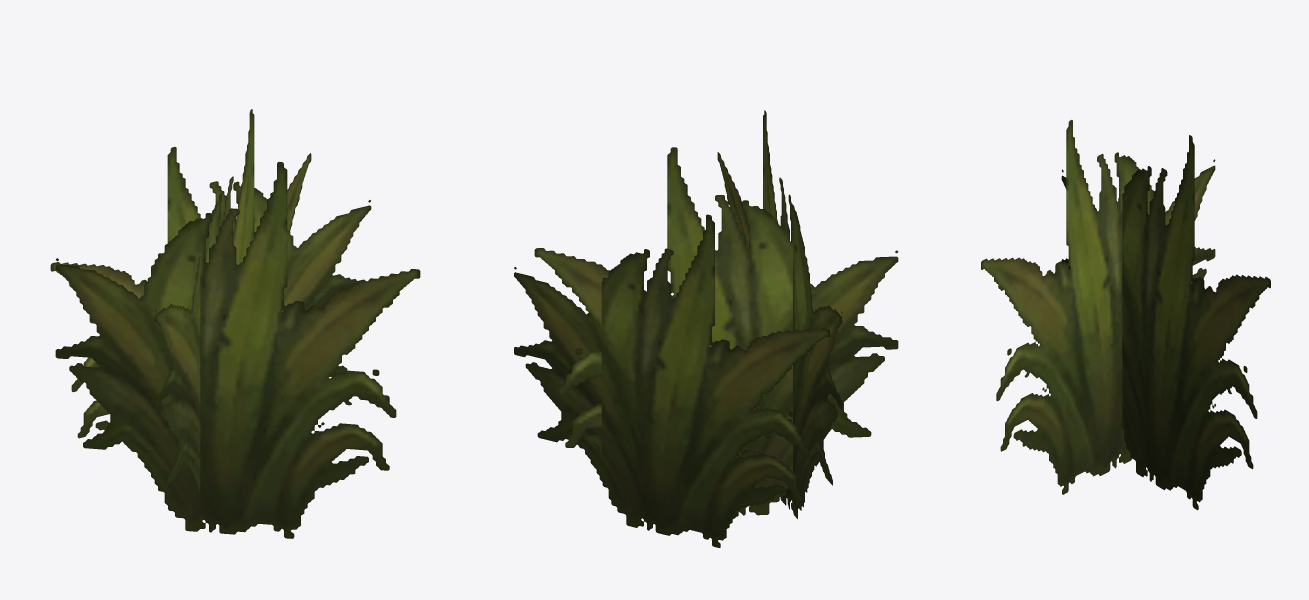
The model's file is town_fern01.fbx.
3 views of the same model, side by side, from view 1: azimuth 30°, elevation 25°; view 2: azimuth 150°, elevation 25°; view 3: azimuth 270°, elevation 25° (orthographic).
Visible parts, largest first — view 1: town_layout_fern01; view 2: town_layout_fern01; view 3: town_layout_fern01.
Boxes of the visible parts, x1,y1,x2,y2 form: town_layout_fern01: (50,109,420,538); town_layout_fern01: (514,110,898,547); town_layout_fern01: (981,120,1270,510).
Bounding box in the file's own units: 0.9807 × 0.9919 × 0.7706.
